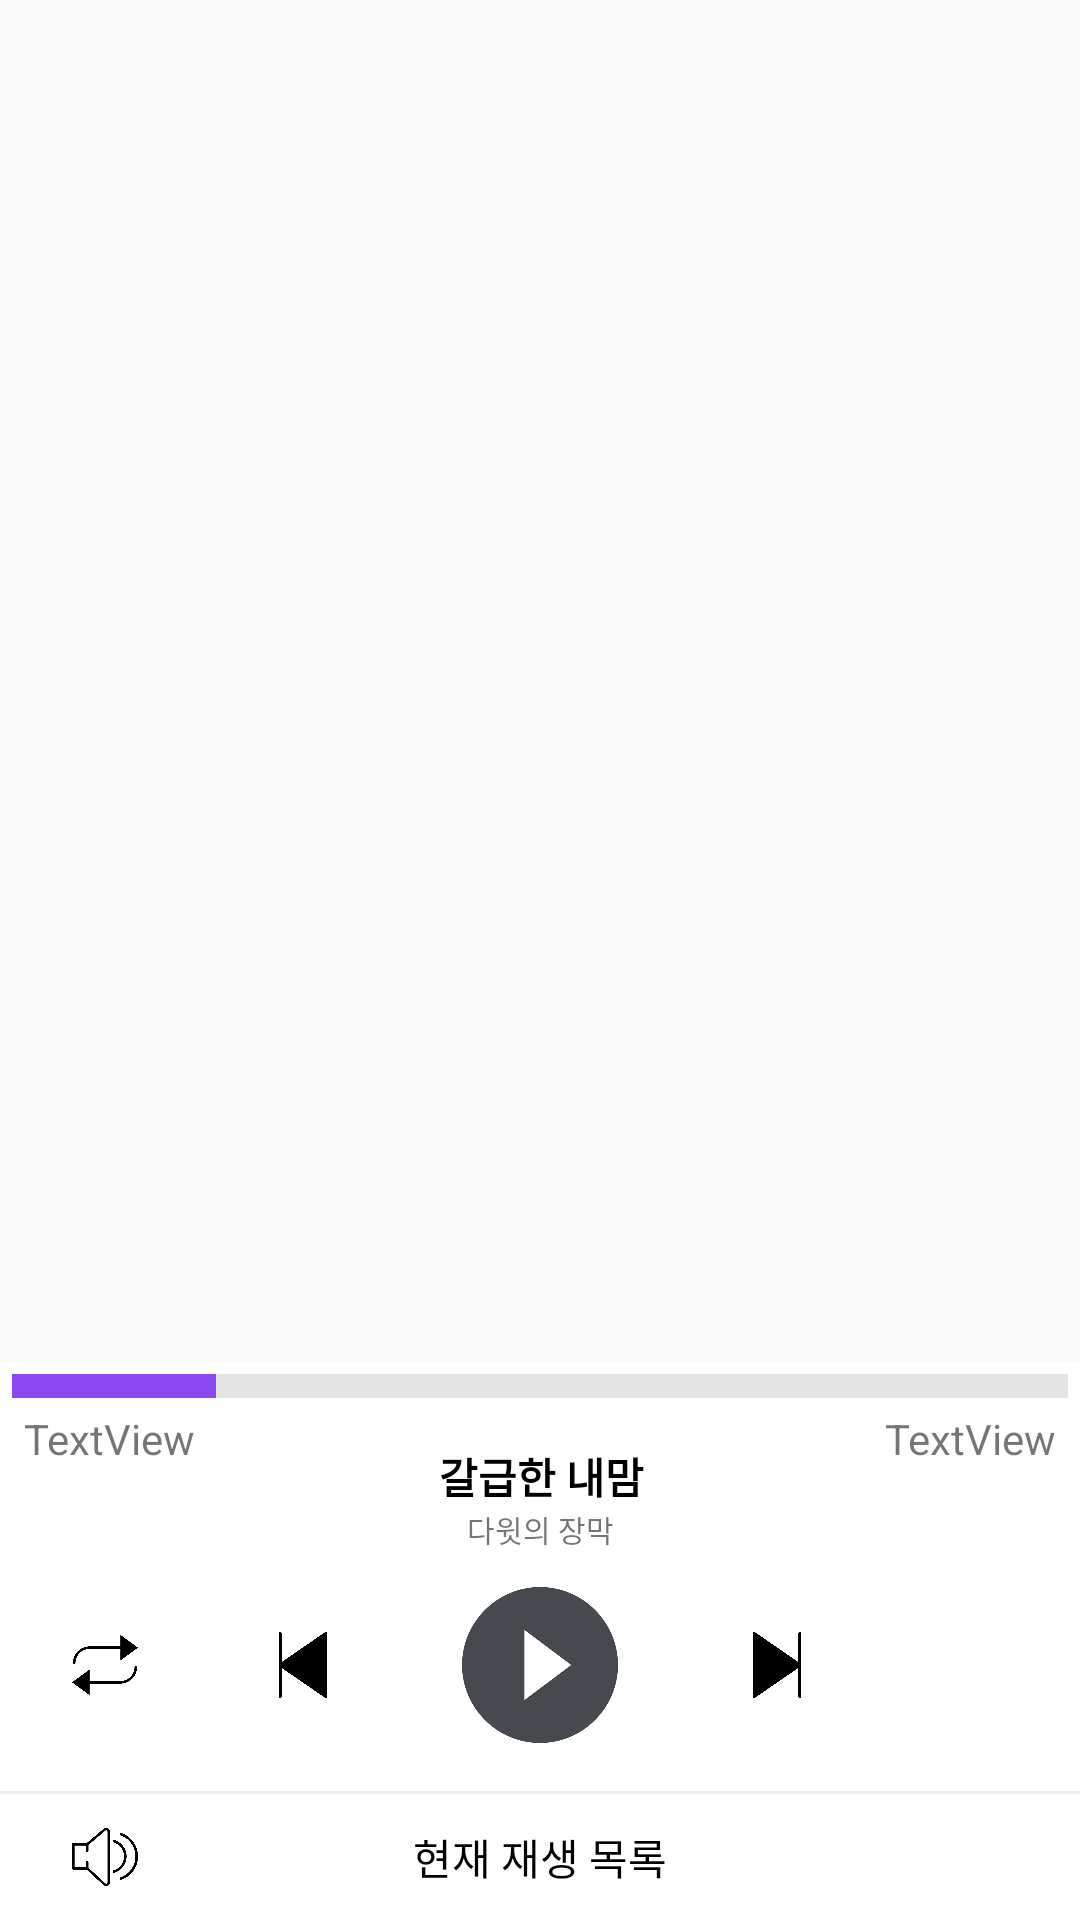

Screen size 1080 × 1920. Icon name, then its center in pixels as point (x, y):
back: point (303, 1665)
next: point (777, 1665)
play rounded: point (540, 1665)
repeat: point (105, 1665)
speaker: point (105, 1857)
